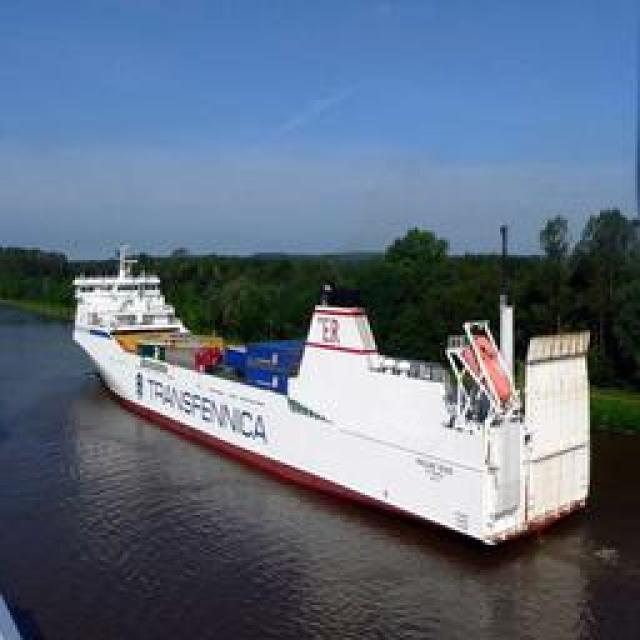ship2: (73, 222, 592, 547)
